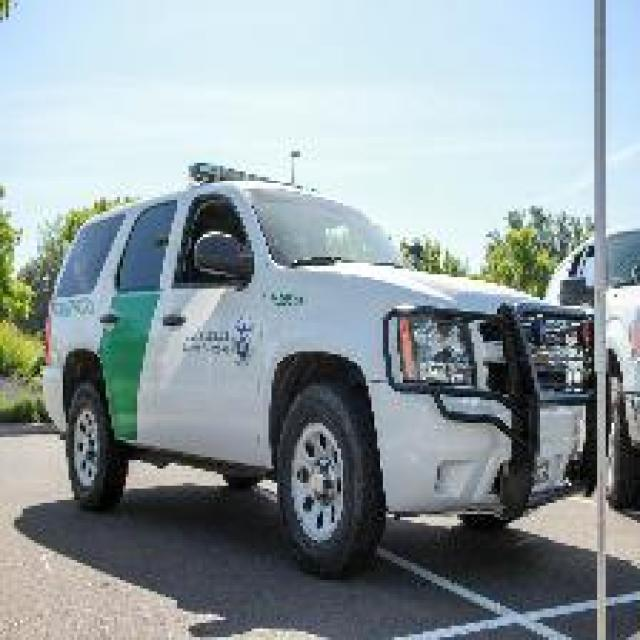Police-car: (37, 157, 597, 577)
